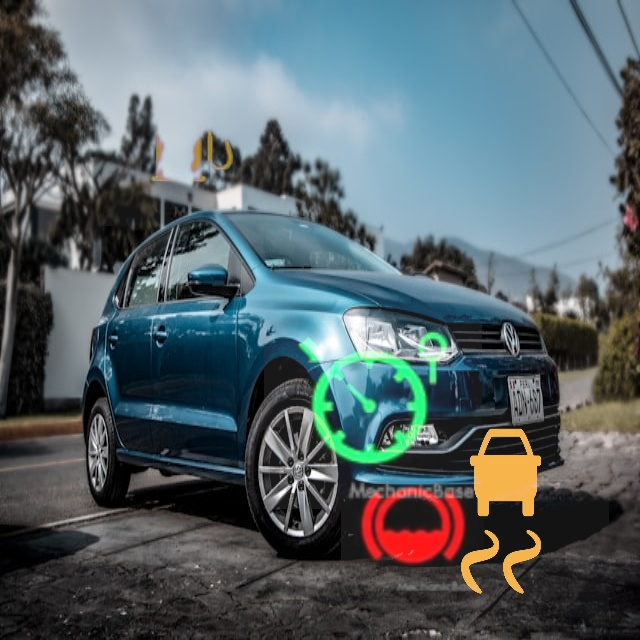symbol: (264, 291, 482, 509), (398, 406, 609, 617), (106, 54, 278, 226), (341, 455, 484, 598)
